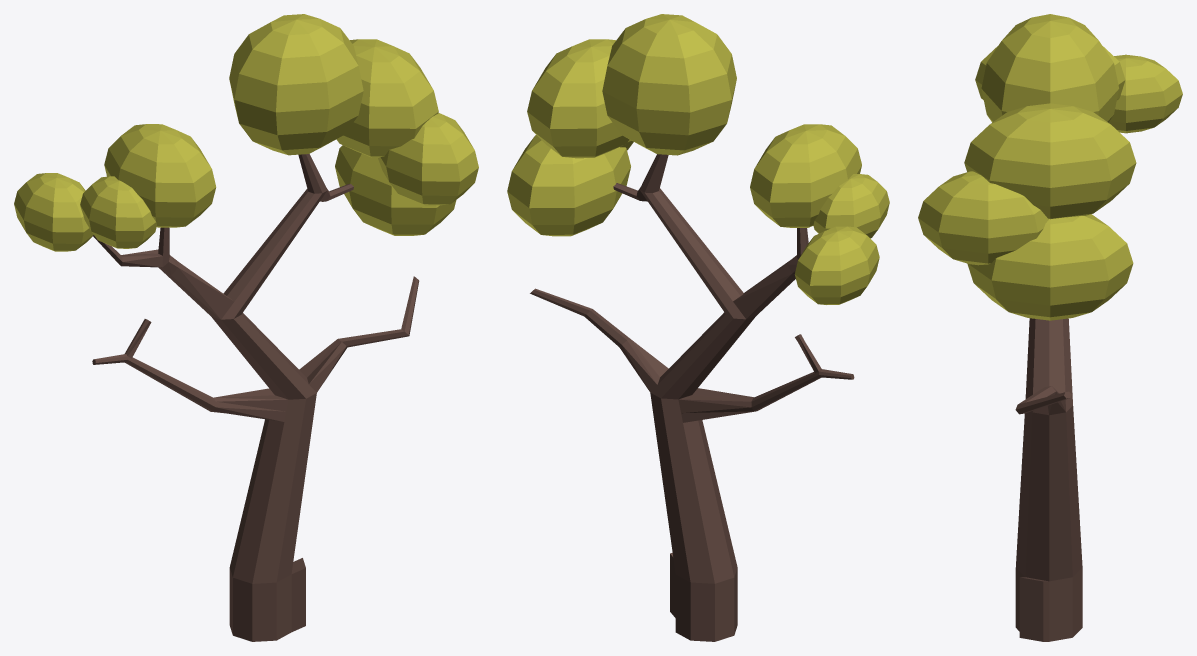
The model's file is tree003.fbx.
3 renders of one model, left to right at view 1: azimuth 30°, elevation 25°; view 2: azimuth 150°, elevation 25°; view 3: azimuth 270°, elevation 25°, orthographic. The views are drawn at different scales.
Parts seen in each view (by area): view 1: tree003; view 2: tree003; view 3: tree003.
Boxes of the visible parts, box(x1,y1,x2,y2) form: tree003: box(14, 14, 478, 641); tree003: box(507, 14, 889, 641); tree003: box(918, 14, 1182, 641).
Size of the model in its own units: 12.3 by 7.04 by 18.33.
